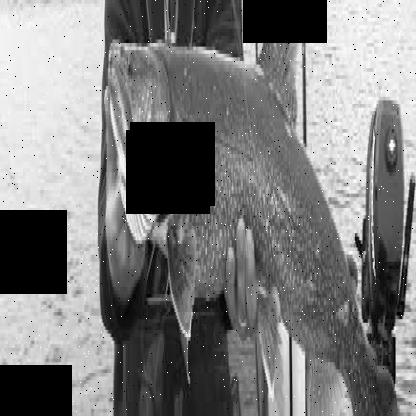fish: (102, 5, 403, 413)
